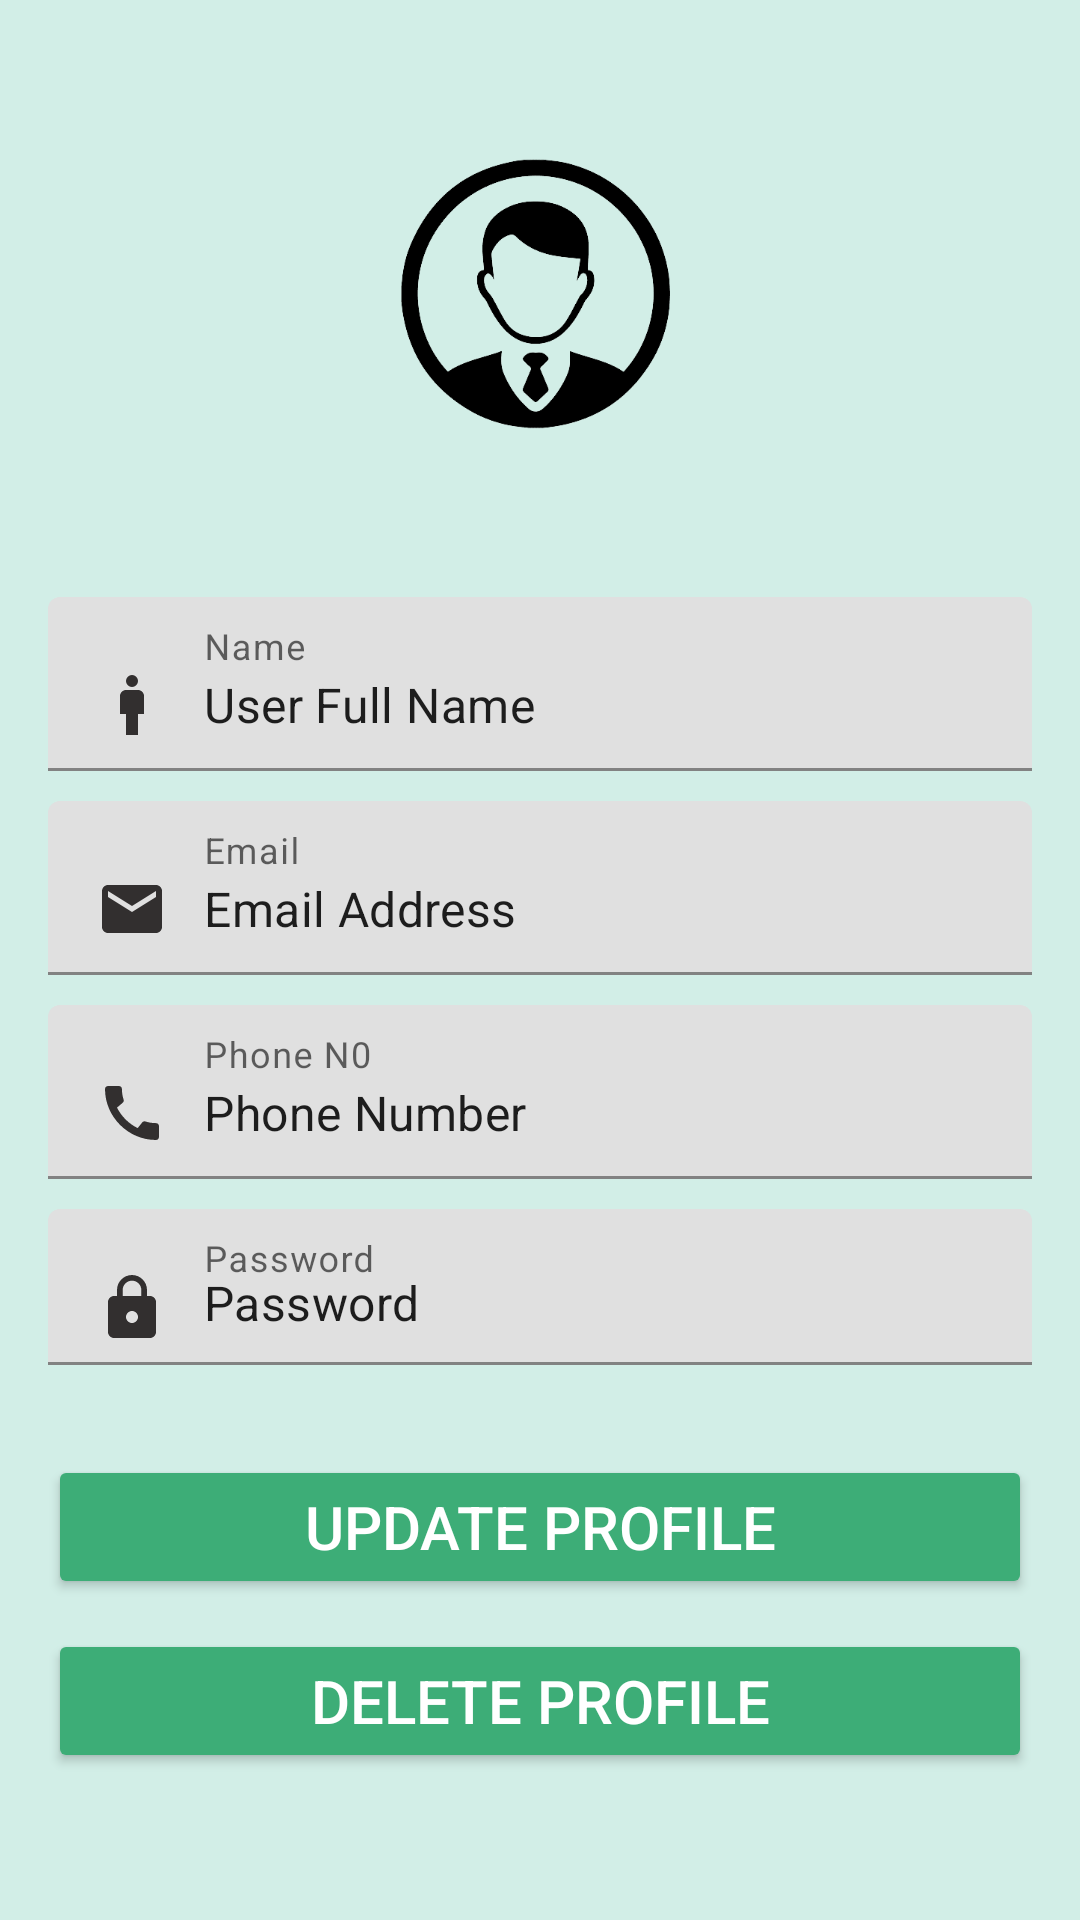

Named icons in this screenshot (1080px×1920px) and their bounding boxes, [x1, y1, x2, y2]:
profile: [401, 159, 670, 428]
